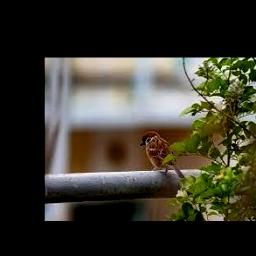Sparrow: (141, 131, 185, 178)
